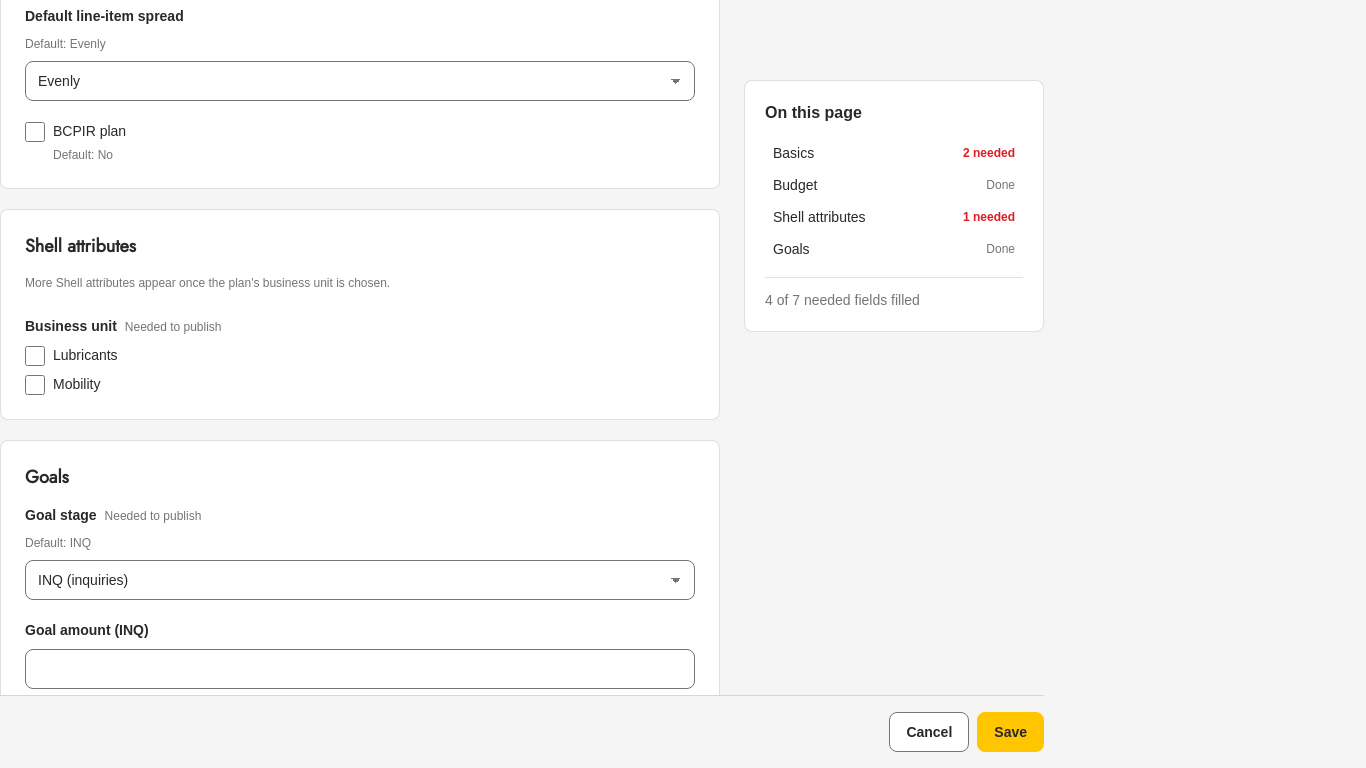
it: PlanForm (US1, FR-005 – FR-010) › shows business-unit attributes with the reason (FR-008)
The width and height of the screenshot is (1366, 768).
(page scrolled)
Click the checkbox labelled "Mobility" at point(35, 384), box [25,374,45,394]
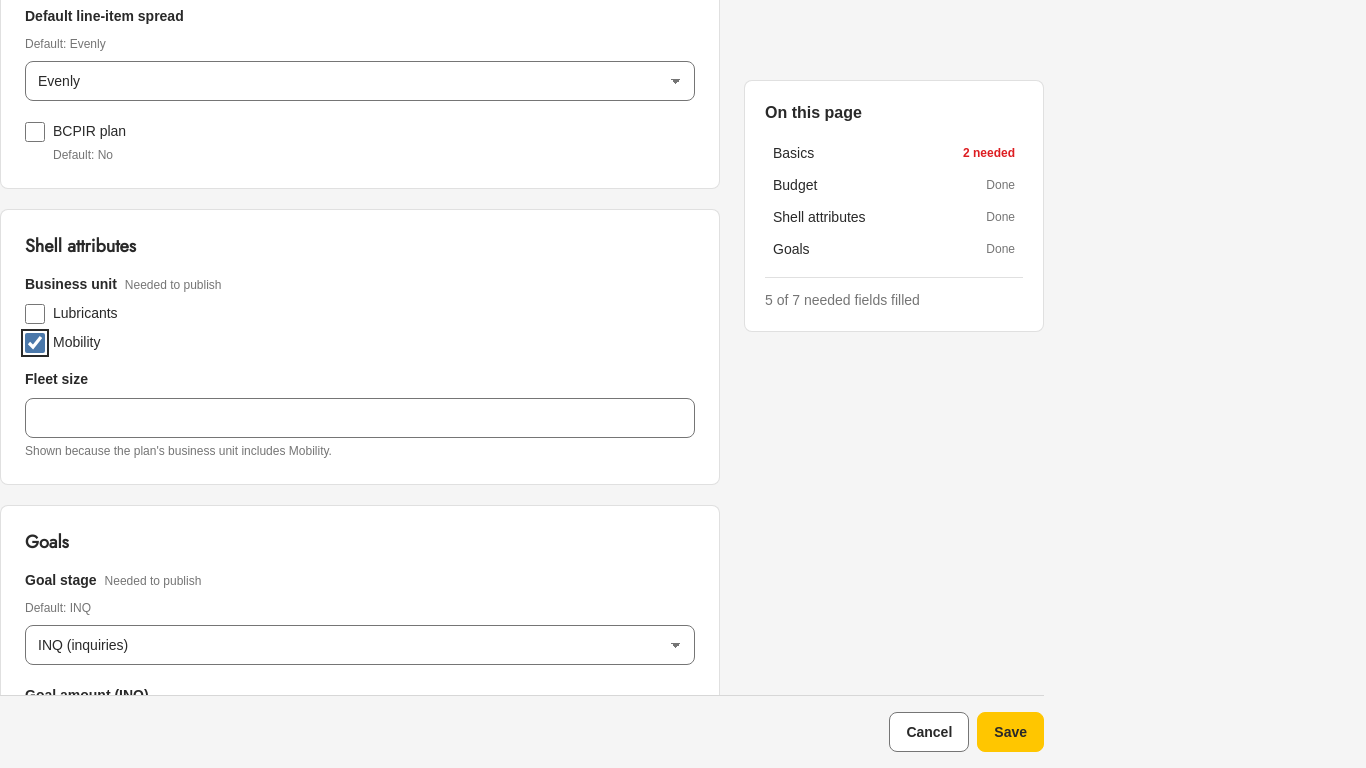
expect the field labelled "Fleet size" is shown: met, box [25,398,695,438]
expect the text "Shown because the plan's business unit includes Mobility." is shown: met, box [25,444,332,458]
